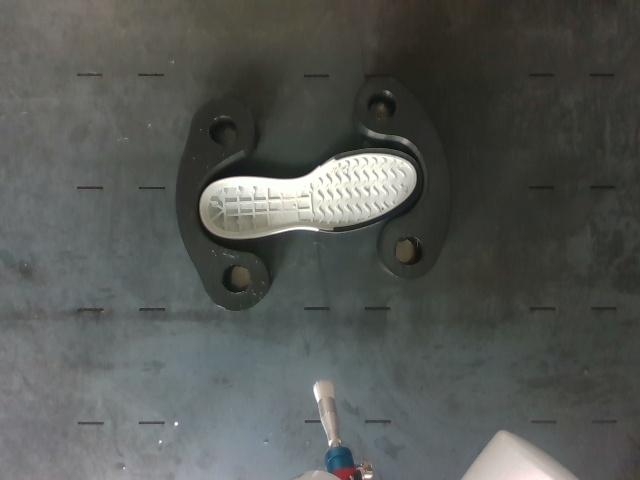shoes: (202, 151, 421, 238)
